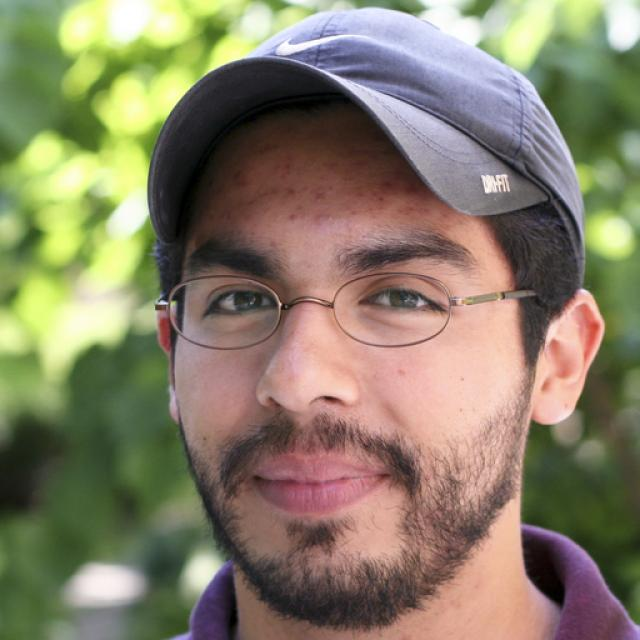Acne: (314, 210, 340, 235)
Spots: (359, 190, 393, 220), (401, 196, 432, 223), (278, 199, 305, 228), (374, 175, 399, 202), (226, 167, 250, 193), (275, 180, 303, 197), (311, 186, 333, 204)
